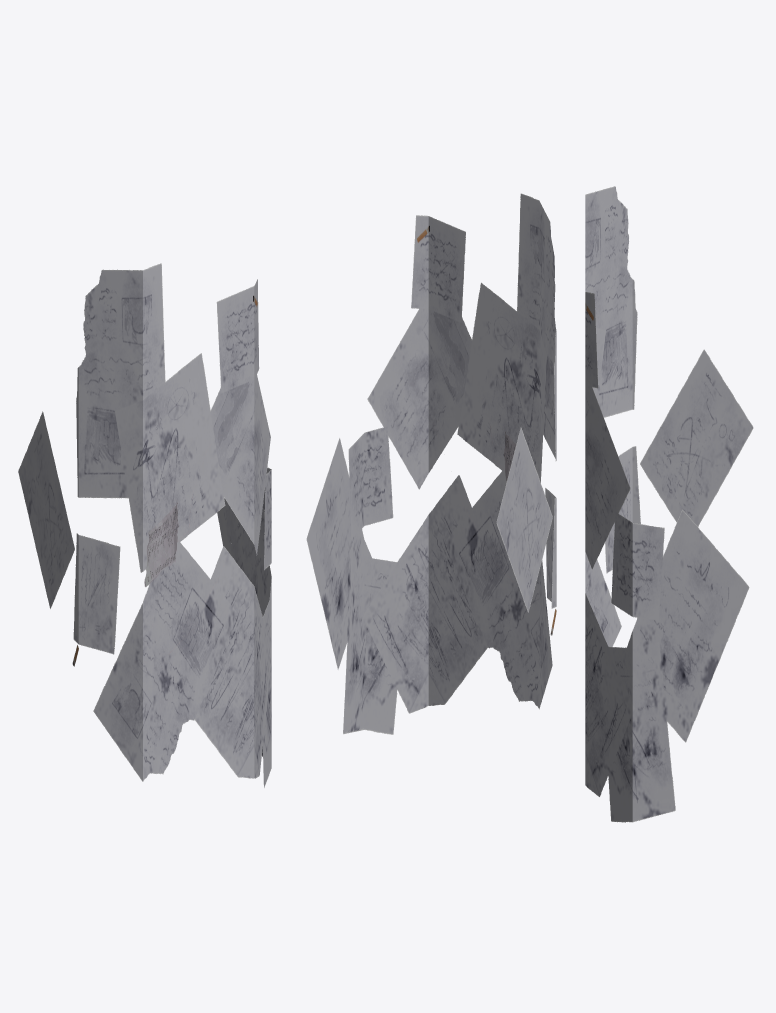
Rendered from Power_Pole_Paper_01.fbx.
3 views of the same model, side by side, from view 1: azimuth 30°, elevation 25°; view 2: azimuth 150°, elevation 25°; view 3: azimuth 270°, elevation 25° (orthographic).
Parts seen in each view (by area): view 1: Power_Pole_Paper_01; view 2: Power_Pole_Paper_01; view 3: Power_Pole_Paper_01.
Part boxes in pixels (box(x1,y1,x2,y2)): Power_Pole_Paper_01: box(18, 263, 271, 787); Power_Pole_Paper_01: box(306, 193, 556, 734); Power_Pole_Paper_01: box(585, 186, 753, 822).
Bounding box in the file's own units: 20.05 × 88.21 × 15.81.
